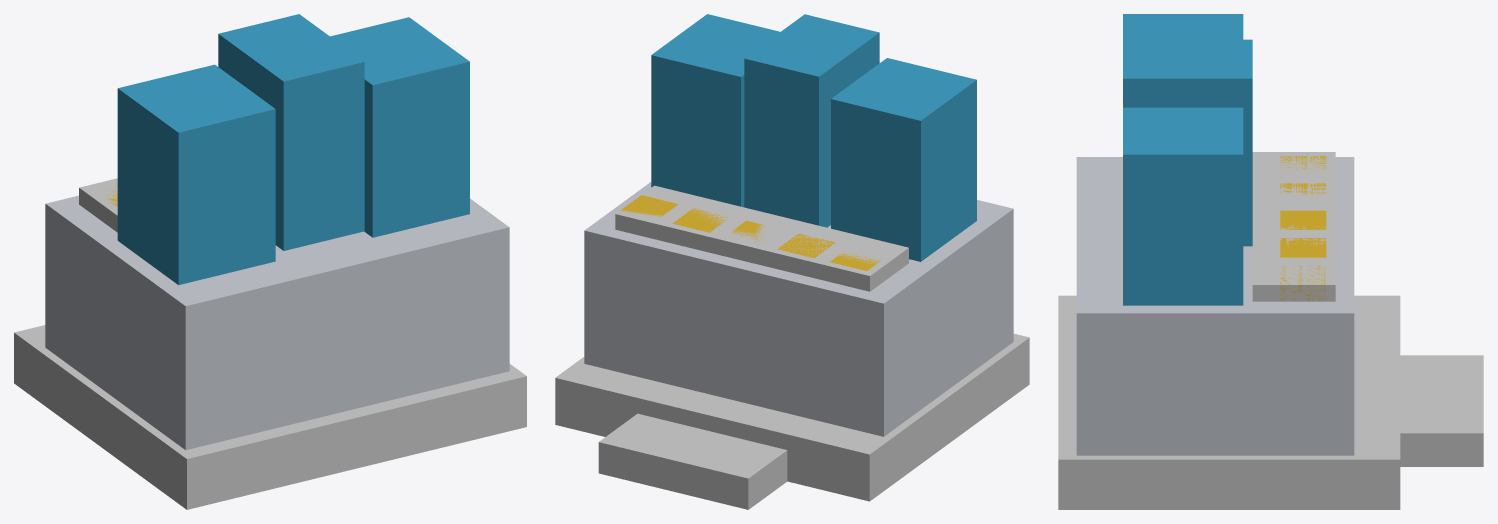
File: command_console.obj
3 views of the same model, side by side, from view 1: azimuth 30°, elevation 25°; view 2: azimuth 150°, elevation 25°; view 3: azimuth 270°, elevation 25° (orthographic). The views are drawn at different scales.
Visible parts, largest first — view 1: command_console; view 2: command_console; view 3: command_console.
Part boxes in pixels (box(x1,y1,x2,y2)): command_console: box(14, 14, 526, 509); command_console: box(555, 14, 1029, 509); command_console: box(1058, 14, 1483, 509).
Size of the model in its own units: 0.84 by 0.88 by 0.92.
